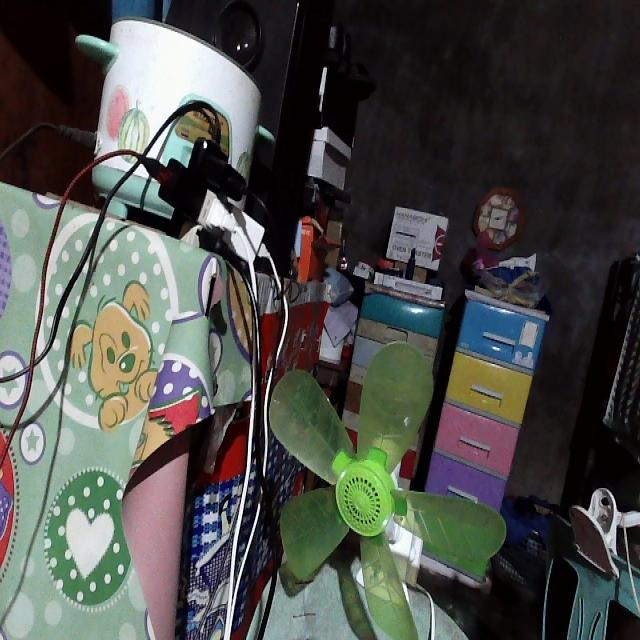-: (113, 96, 280, 297)
